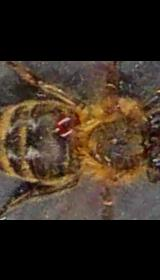varroa_mite: (49, 112, 80, 142)
